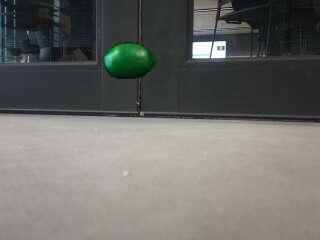Lime: (102, 43, 156, 79)
